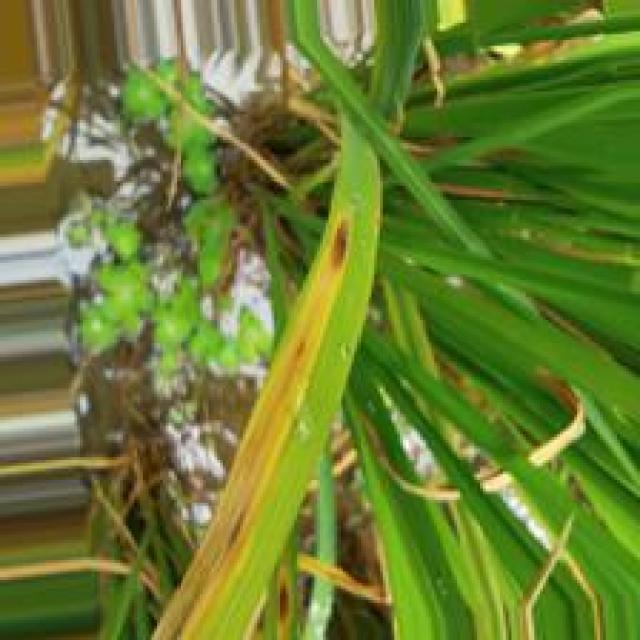Narrow_Brown_Leaf_Spot: (147, 209, 356, 640)
